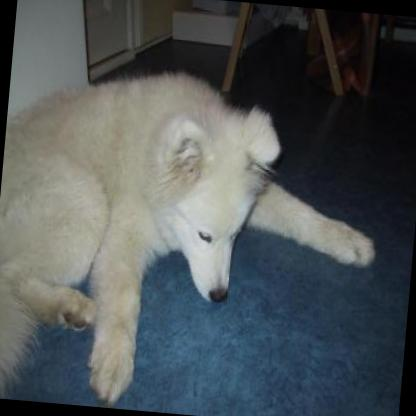Samoyed: (0, 53, 391, 416)
